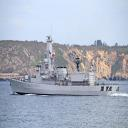Fragata: (9, 35, 121, 98)
